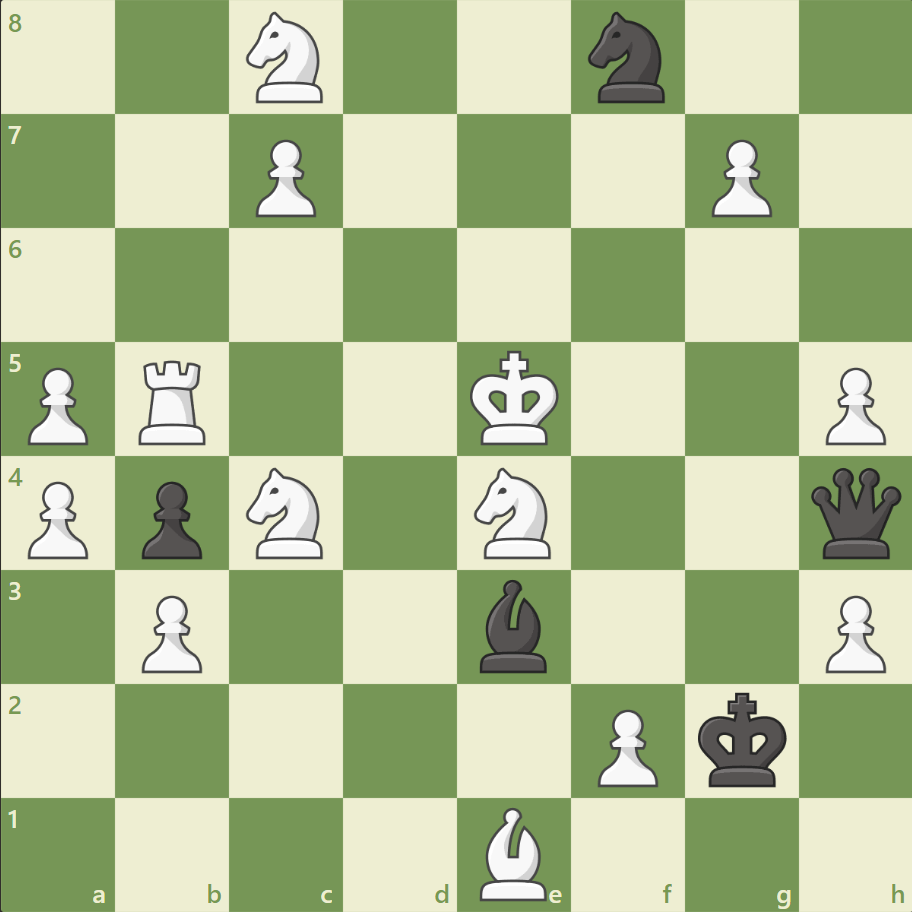B: (471, 801, 555, 904)
K: (465, 344, 565, 452)
N: (238, 7, 335, 110), (238, 461, 335, 564), (465, 461, 562, 564)
P: (247, 132, 322, 223), (701, 132, 776, 223), (20, 359, 95, 450), (20, 473, 95, 564), (133, 586, 208, 677), (815, 359, 889, 450), (815, 586, 889, 677), (588, 700, 662, 791)
R: (133, 352, 215, 449)
b: (471, 574, 555, 676)
k: (692, 685, 792, 793)
n: (579, 7, 676, 110)
p: (133, 473, 208, 564)
q: (805, 463, 904, 562)
